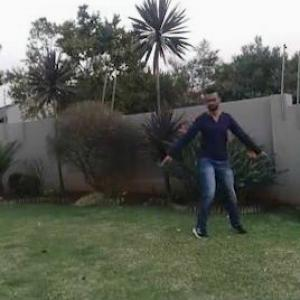land: (136, 79, 276, 251)
